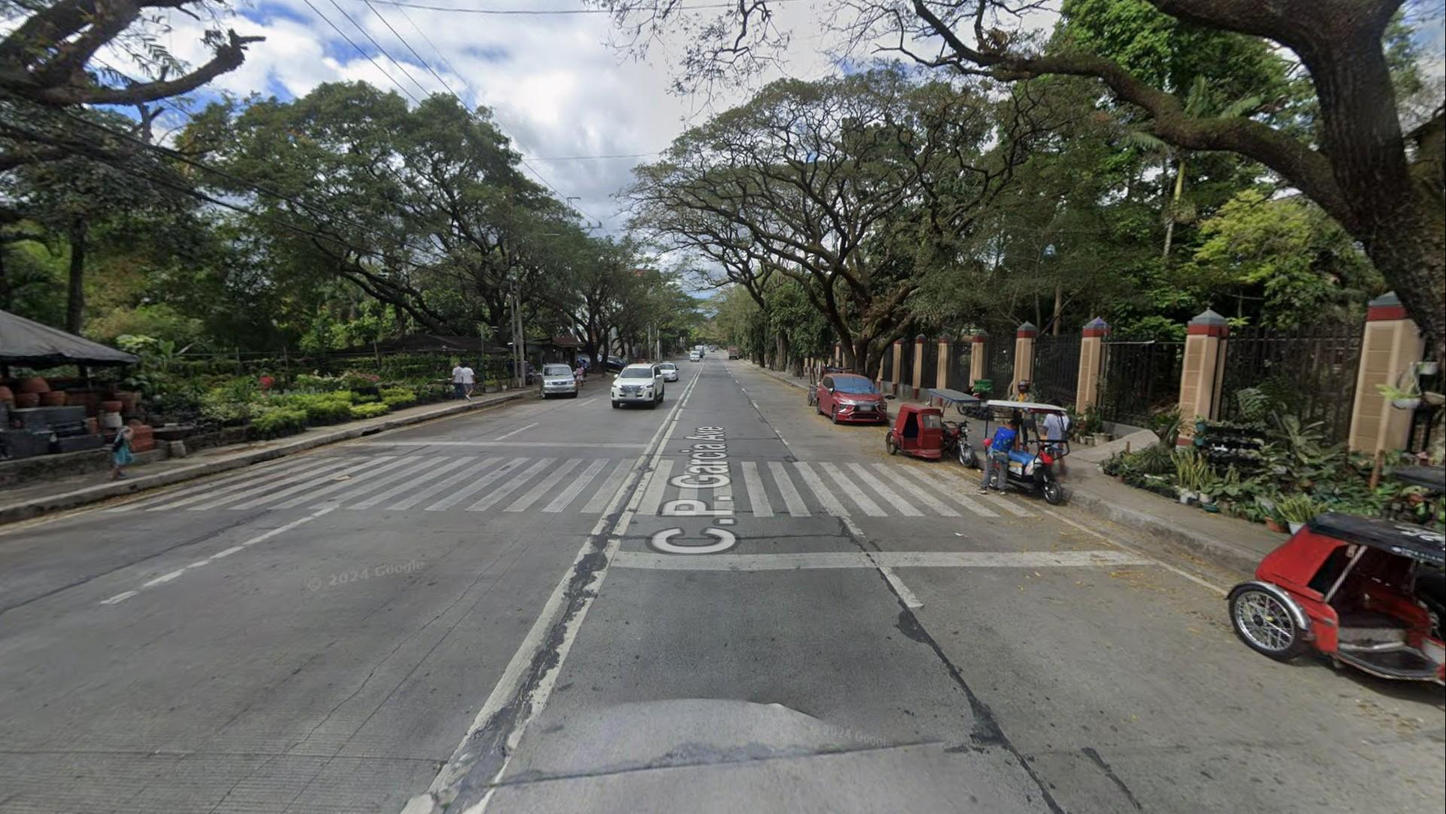pedestrian: (978, 417, 1020, 496), (1039, 399, 1069, 481), (107, 418, 142, 483), (1008, 376, 1034, 454), (461, 362, 476, 402), (451, 361, 464, 399), (573, 362, 585, 389), (581, 358, 589, 378)
